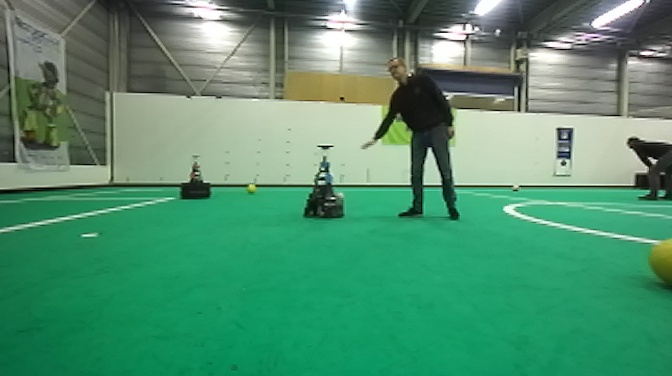ball: (645, 236, 672, 292), (244, 181, 258, 194), (509, 181, 521, 194)
human: (358, 56, 460, 220), (624, 134, 672, 202)
robot: (299, 143, 347, 222), (177, 153, 215, 201)
